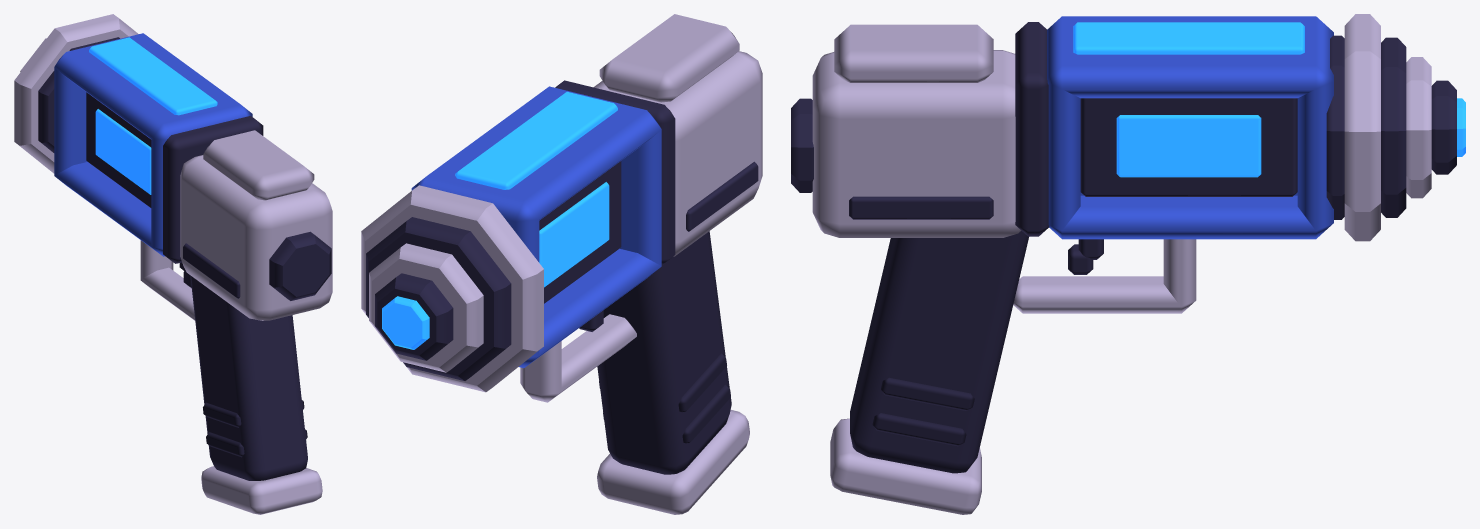
The model's file is multi_tool.glb.
3 renders of one model, left to right at view 1: azimuth 30°, elevation 25°; view 2: azimuth 150°, elevation 25°; view 3: azimuth 270°, elevation 25°, orthographic. The views are drawn at different scales.
Parts seen in each view (by area): view 1: item.multi_tool.body, part.head; view 2: item.multi_tool.body, part.head; view 3: item.multi_tool.body, part.head.
Part boxes in pixels (x1,y1,x2,y2): item.multi_tool.body: [54, 33, 332, 514]; part.head: [14, 14, 138, 173]; item.multi_tool.body: [411, 14, 762, 514]; part.head: [361, 185, 543, 392]; item.multi_tool.body: [791, 16, 1333, 514]; part.head: [1326, 14, 1465, 241].
Size of the model in its own units: 0.1813 by 0.4431 by 0.5828.
